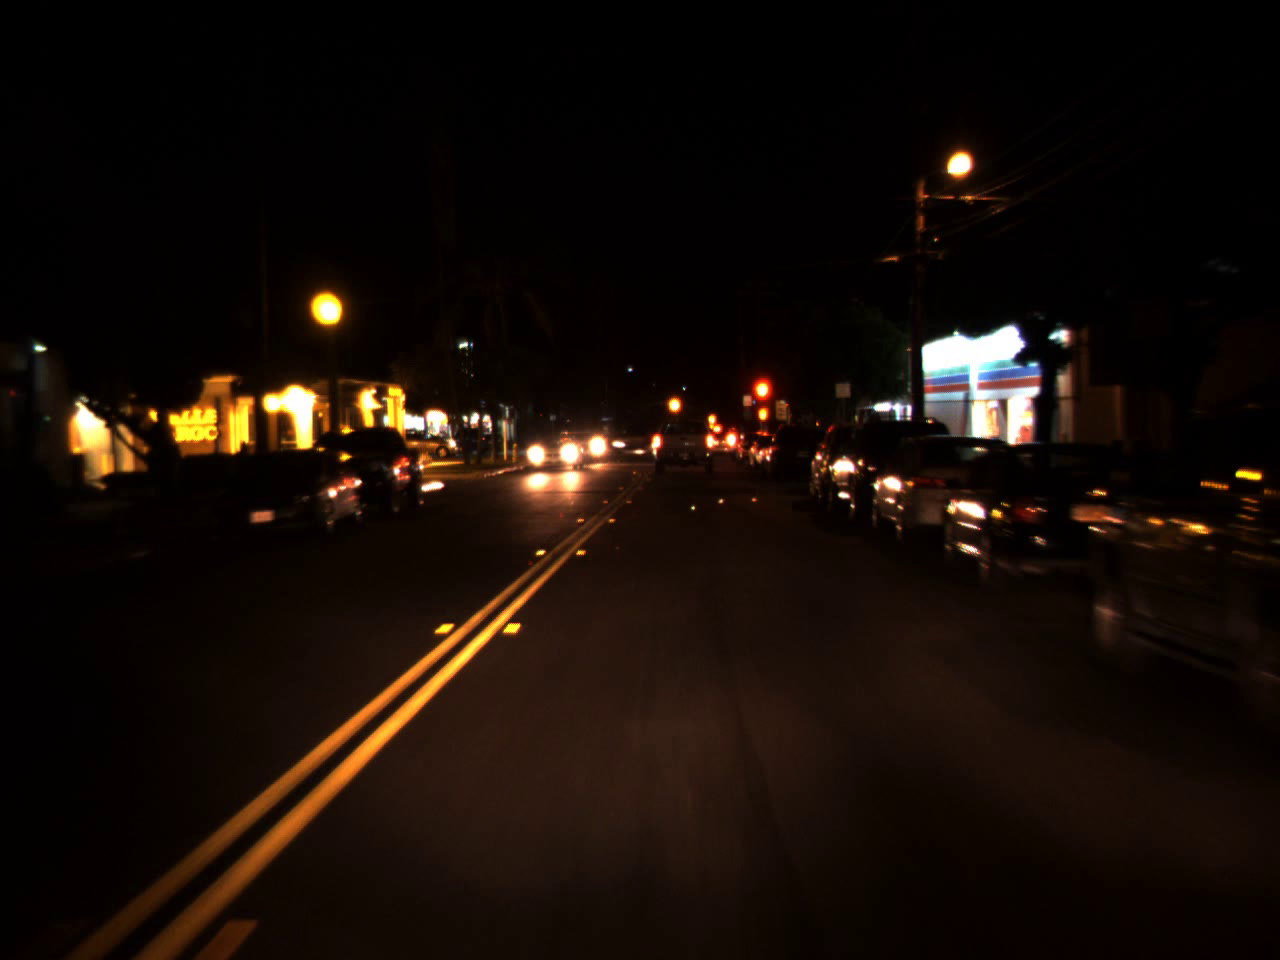stop: (749, 373, 776, 429)
warning: (666, 386, 684, 421), (706, 408, 718, 425)
